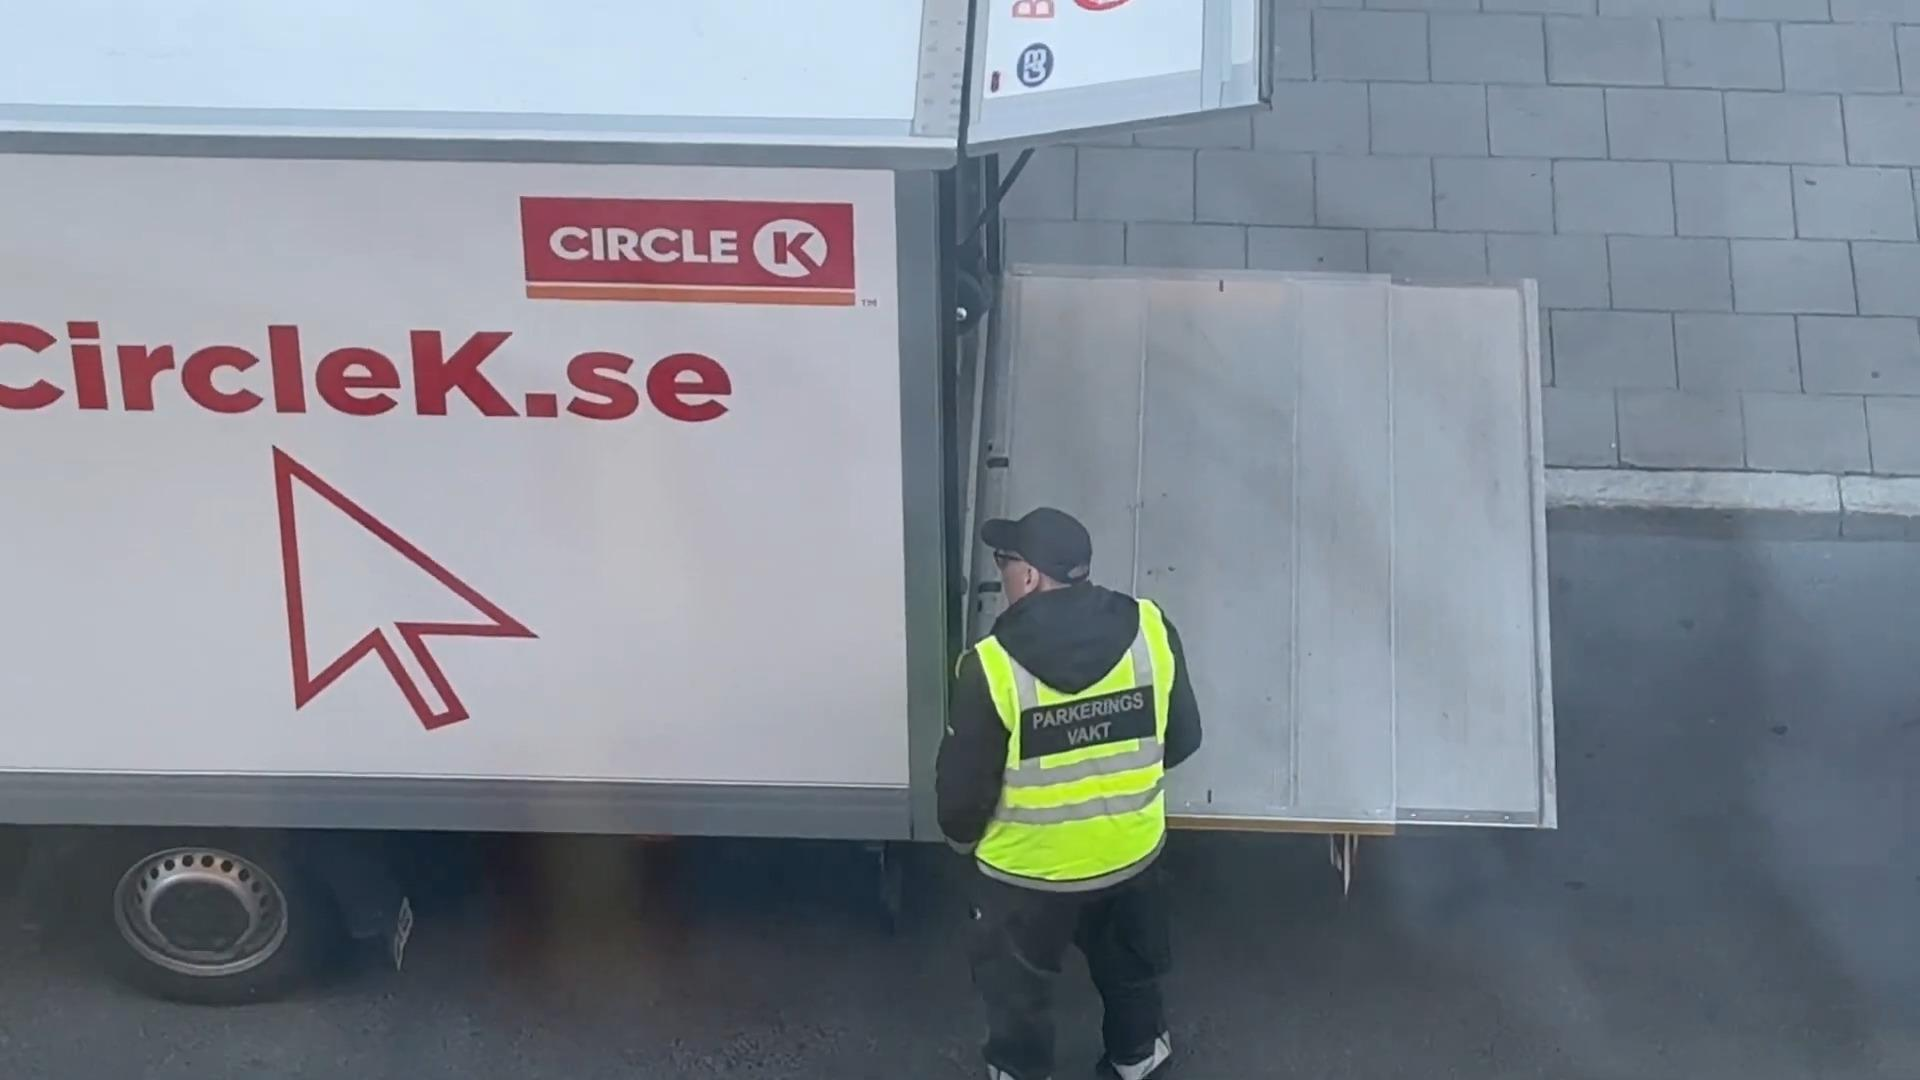parking-attendant: (936, 509, 1200, 1079)
